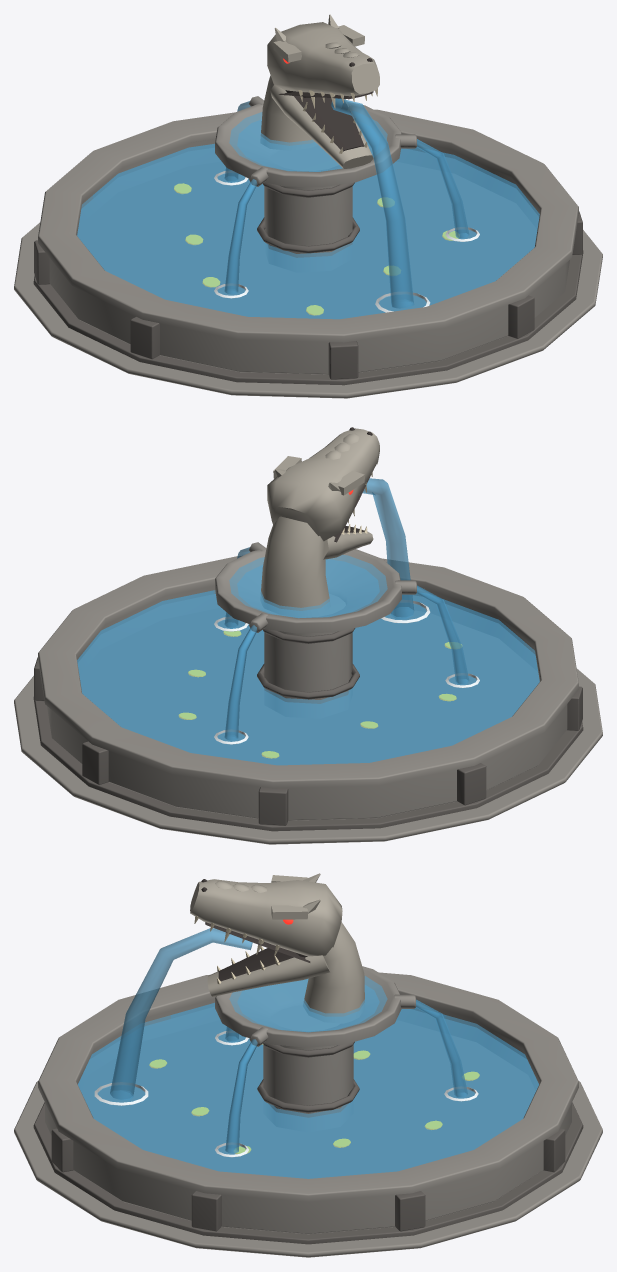
The model's file is fountain.glb.
3 views of the same model, one above another, from view 1: azimuth 30°, elevation 25°; view 2: azimuth 150°, elevation 25°; view 3: azimuth 270°, elevation 25° (orthographic).
Parts seen in each view (by area): view 1: Fountain_Stone, Fountain_Water, Fountain_StoneDark, Fountain_Statue, Fountain_StatueMouth, Fountain_Foam, Fountain_Coins; view 2: Fountain_Stone, Fountain_Water, Fountain_StoneDark, Fountain_Statue, Fountain_Foam, Fountain_Coins; view 3: Fountain_Stone, Fountain_Water, Fountain_StoneDark, Fountain_Statue, Fountain_StatueMouth, Fountain_Foam, Fountain_Coins.
Part boxes in pixels (x1=…): Fountain_Stone: x1=14, y1=96, x2=602, y2=398; Fountain_Water: x1=77, y1=98, x2=539, y2=319; Fountain_StoneDark: x1=33, y1=162, x2=583, y2=385; Fountain_Statue: x1=260, y1=14, x2=379, y2=168; Fountain_StatueMouth: x1=278, y1=58, x2=373, y2=151; Fountain_Foam: x1=214, y1=170, x2=479, y2=312; Fountain_Coins: x1=174, y1=183, x2=458, y2=315; Fountain_Stone: x1=14, y1=542, x2=602, y2=844; Fountain_Water: x1=77, y1=478, x2=539, y2=765; Fountain_StoneDark: x1=33, y1=608, x2=583, y2=831; Fountain_Statue: x1=260, y1=428, x2=379, y2=617; Fountain_Foam: x1=214, y1=600, x2=479, y2=744; Fountain_Coins: x1=178, y1=631, x2=461, y2=758; Fountain_Stone: x1=14, y1=966, x2=602, y2=1257; Fountain_Water: x1=78, y1=928, x2=538, y2=1178; Fountain_StoneDark: x1=33, y1=1020, x2=583, y2=1244; Fountain_Statue: x1=190, y1=873, x2=364, y2=1023; Fountain_StatueMouth: x1=201, y1=879, x2=310, y2=981; Fountain_Foam: x1=94, y1=1031, x2=478, y2=1157; Fountain_Coins: x1=149, y1=1044, x2=479, y2=1153.
Size of the model in its own units: 20.8 by 9.81 by 20.8.
